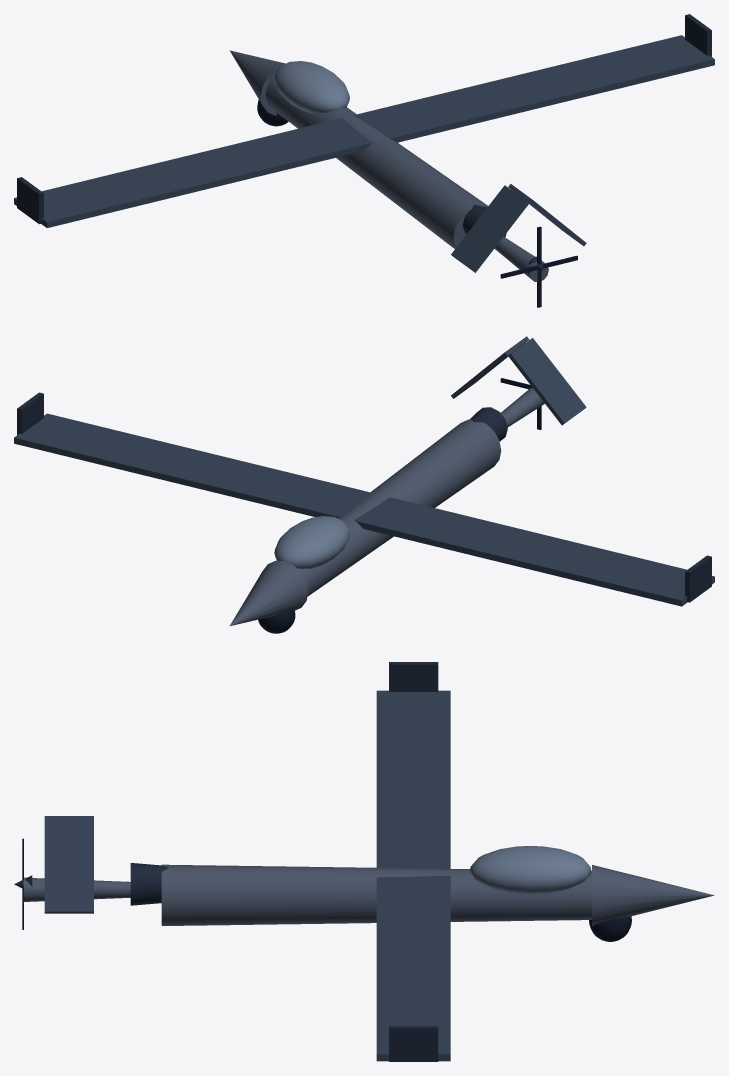
The model's file is male_uav.glb.
3 views of the same model, one above another, from view 1: azimuth 30°, elevation 25°; view 2: azimuth 150°, elevation 25°; view 3: azimuth 270°, elevation 25° (orthographic). The views are drawn at different scales.
Parts seen in each view (by area): view 1: MALE_UAV; view 2: MALE_UAV; view 3: MALE_UAV.
Part boxes in pixels (<box>): MALE_UAV: <box>14,14,714,307</box>; MALE_UAV: <box>14,336,714,633</box>; MALE_UAV: <box>14,662,714,1061</box>.
Size of the model in its own units: 14.1 by 2.19 by 11.4.
